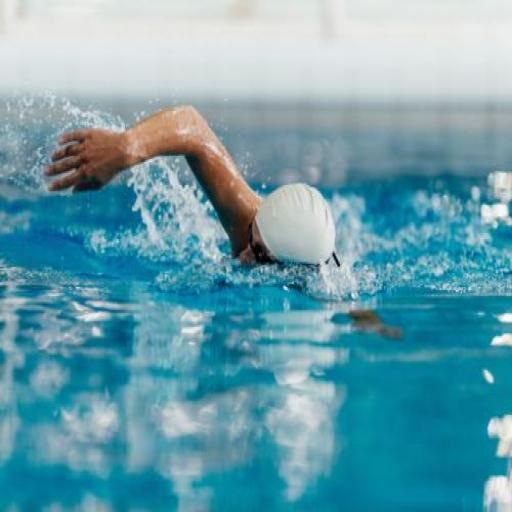swimming: (41, 100, 341, 276)
